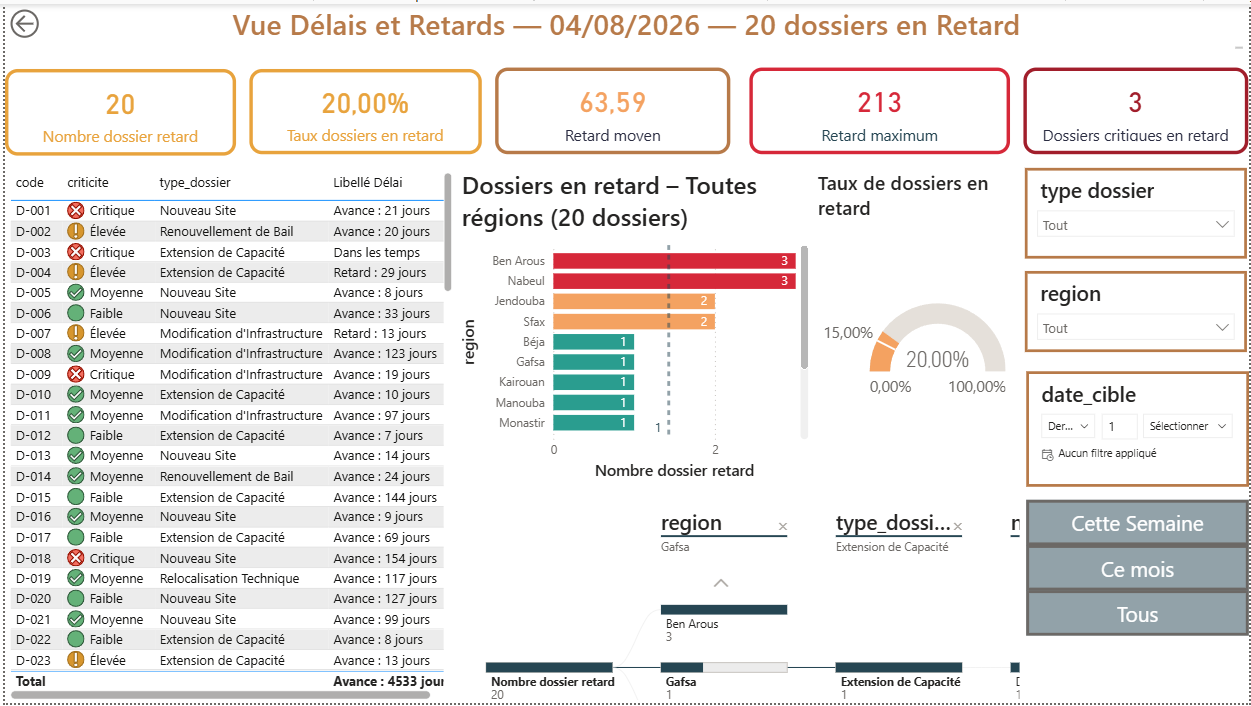

Layout of this report page (visuals, bound fields, positions):
{"tool":"powerbi","page":{"name":"Retards ","canvas":[1280,720],"ordinal":1},"visuals":[{"type":"textbox","box":[0,0,1279.6,50.9],"z":0},{"type":"card","fields":{"Values":["Dossier.Nombre dossier retard"]},"box":[0,66.4,237.7,89.5],"z":1000},{"type":"clusteredBarChart","fields":{"Category":["Dossier.region"],"Y":["Dossier.Nombre dossier retard"]},"box":[465.5,168.8,366.7,326.6],"z":2000},{"type":"tableEx","fields":{"Values":["Dossier.code_dossier","Dossier.criticite","Dossier.type_dossier","Dossier.Libellé Délai"]},"box":[0,168.8,465.5,552.3],"z":3000},{"type":"slicer","fields":{"Values":["Dossier.region"]},"box":[1050.5,275.5,228.8,83.8],"z":4000},{"type":"slicer","fields":{"Values":["Dossier.type_dossier"]},"box":[1050.5,169.2,228.8,93.4],"z":5000},{"type":"card","fields":{"Values":["Dossier.Retard moyen"]},"box":[504.8,64.8,242.4,89.5],"z":6000},{"type":"card","fields":{"Values":["Dossier.Retard maximum"]},"box":[765.7,64.8,268.6,89.5],"z":7000},{"type":"card","fields":{"Values":["Dossier.Dossiers critiques en retard"]},"box":[1048.2,64.8,231.6,89.5],"z":8000},{"type":"slicer","fields":{"Values":["Echeance.date_cible"]},"box":[1051.1,377.5,229.4,118.9],"z":9000},{"type":"actionButton","title":"Cette semaine","box":[1051.4,510.4,229,46.9],"z":10000},{"type":"actionButton","title":"Cette semaine","box":[1051.4,557.3,229,46.9],"z":11000},{"type":"actionButton","title":"Cette semaine","box":[1051.4,604.1,229,46.9],"z":12000},{"type":"actionButton","box":[0,0,100,40],"z":13000},{"type":"gauge","title":"Taux de dossiers en retard","fields":{"Y":["Dossier.Taux dossiers en retard"],"TargetValue":["Dossier.Objectif taux retard"],"MaxValue":["Dossier.Maximum taux retard"]},"box":[831.6,170.4,203.6,325.1],"z":14000},{"type":"decompositionTreeVisual","fields":{"Analyze":["Dossier.Nombre dossier retard"],"ExplainBy":["Dossier.region","Dossier.type_dossier","Phase.nom_phase","Dossier.criticite"]},"box":[465.5,511.3,583.8,209.9],"z":15000},{"type":"card","fields":{"Values":["Dossier.Taux dossiers en retard"]},"box":[250.9,66.8,239,87.6],"z":16000}]}

Visuals, with their boxes in screenshot pixels (x1, y1, x2, y2), scaled from the page's 1280x720 canvas onto the 1251x706 screenshot:
textbox: crop(0, 0, 1250, 50)
card - Dossier.Nombre dossier retard: crop(0, 65, 232, 153)
clusteredBarChart - Dossier.region x Dossier.Nombre dossier retard: crop(455, 166, 813, 486)
tableEx - Dossier.code_dossier x Dossier.criticite: crop(0, 166, 455, 705)
slicer - Dossier.region: crop(1027, 270, 1250, 352)
slicer - Dossier.type_dossier: crop(1027, 166, 1250, 257)
card - Dossier.Retard moyen: crop(493, 64, 730, 151)
card - Dossier.Retard maximum: crop(748, 64, 1011, 151)
card - Dossier.Dossiers critiques en retard: crop(1024, 64, 1250, 151)
slicer - Echeance.date_cible: crop(1027, 370, 1250, 487)
"Cette semaine" actionButton: crop(1028, 500, 1250, 546)
"Cette semaine" actionButton: crop(1028, 546, 1250, 592)
"Cette semaine" actionButton: crop(1028, 592, 1250, 638)
actionButton: crop(0, 0, 98, 39)
"Taux de dossiers en retard" gauge: crop(813, 167, 1012, 486)
decompositionTreeVisual - Dossier.Nombre dossier retard x Dossier.region: crop(455, 501, 1026, 705)
card - Dossier.Taux dossiers en retard: crop(245, 66, 479, 151)
